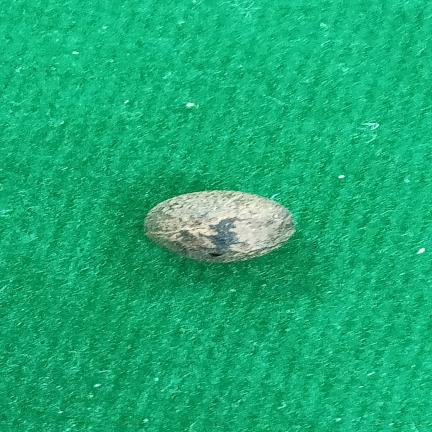partial-black: (144, 190, 295, 263)
